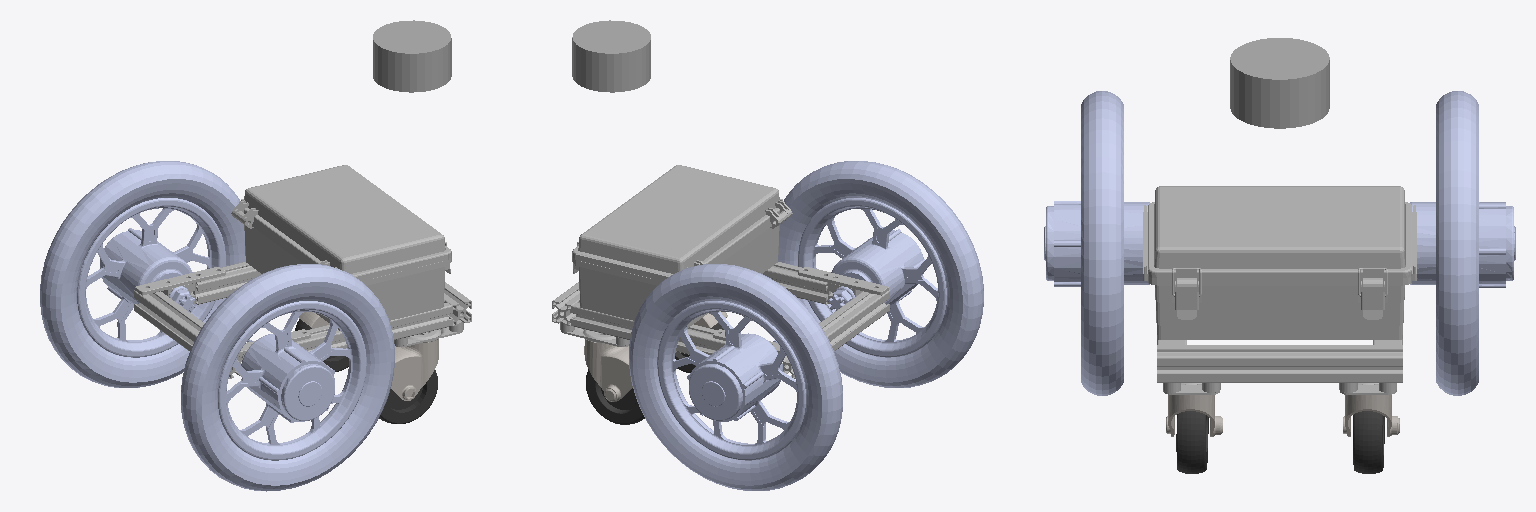
robot.urdf — atcart_greenhouse_gazebo:
<?xml version="1.0" encoding="utf-8"?>
<!-- This URDF was automatically created by SolidWorks to URDF Exporter! Originally created by [author] ([email redacted]) 
     Commit Version: 1.6.0-1-g15f4949  Build Version: 1.6.7594.29634
     For more information, please see http://wiki.ros.org/sw_urdf_exporter -->
<robot
  name="atcart_greenhouse_gazebo">
  <link
    name="base_link">
    <inertial>
      <origin
        xyz="-0.0072165 -9.8416E-11 0.049749"
        rpy="0 0 0" />
      <mass
        value="5.7003" />
      <inertia
        ixx="0.045977"
        ixy="-5.8538E-09"
        ixz="-0.00017433"
        iyy="0.02225"
        iyz="-1.2093E-10"
        izz="0.062715" />
    </inertial>
    <visual>
      <origin
        xyz="0 0 0"
        rpy="0 0 0" />
      <geometry>
        <mesh
          filename="package://atcart_greenhouse_gazebo/meshes/base_link.STL" />
      </geometry>
      <material
        name="">
        <color
          rgba="0.75294 0.75294 0.75294 1" />
      </material>
    </visual>
    <collision>
      <origin
        xyz="0 0 0"
        rpy="0 0 0" />
      <geometry>
        <mesh
          filename="package://atcart_greenhouse_gazebo/meshes/base_link.STL" />
      </geometry>
    </collision>
  </link>
  <link
    name="caster_holder_left">
    <inertial>
      <origin
        xyz="-0.02177 0.0014053 0.046067"
        rpy="0 0 0" />
      <mass
        value="0.32044" />
      <inertia
        ixx="0.00025526"
        ixy="3.2464E-06"
        ixz="-5.7646E-05"
        iyy="0.00031844"
        iyz="1.5351E-05"
        izz="0.00028574" />
    </inertial>
    <visual>
      <origin
        xyz="0 0 0"
        rpy="0 0 0" />
      <geometry>
        <mesh
          filename="package://atcart_greenhouse_gazebo/meshes/caster_holder_left.STL" />
      </geometry>
      <material
        name="">
        <color
          rgba="0.77647 0.75686 0.73725 1" />
      </material>
    </visual>
    <collision>
      <origin
        xyz="0 0 0"
        rpy="0 0 0" />
      <geometry>
        <mesh
          filename="package://atcart_greenhouse_gazebo/meshes/caster_holder_left.STL" />
      </geometry>
    </collision>
  </link>
  <joint
    name="caster_holder_left_joint"
    type="continuous">
    <origin
      xyz="0.061 0.09 -0.1283"
      rpy="0 0 -0.02603" />
    <parent
      link="base_link" />
    <child
      link="caster_holder_left" />
    <axis
      xyz="0 0 1" />
  </joint>
  <link
    name="caster_wheel_left">
    <inertial>
      <origin
        xyz="-5.55111512312578E-17 0 3.6943163319314E-06"
        rpy="0 0 0" />
      <mass
        value="0.192088631471314" />
      <inertia
        ixx="0.000151182469566071"
        ixy="-6.99354014046243E-34"
        ixz="5.57175414480924E-19"
        iyy="0.000151182469566071"
        iyz="-1.53010454143402E-19"
        izz="0.000279600031953075" />
    </inertial>
    <visual>
      <origin
        xyz="0 0 0"
        rpy="0 0 0" />
      <geometry>
        <mesh
          filename="package://atcart_greenhouse_gazebo/meshes/caster_wheel_left.STL" />
      </geometry>
      <material
        name="">
        <color
          rgba="0.298039215686275 0.298039215686275 0.298039215686275 1" />
      </material>
    </visual>
    <collision>
      <origin
        xyz="0 0 0"
        rpy="0 0 0" />
      <geometry>
        <mesh
          filename="package://atcart_greenhouse_gazebo/meshes/caster_wheel_left.STL" />
      </geometry>
    </collision>
  </link>
  <joint
    name="caster_wheel_left_joint"
    type="continuous">
    <origin
      xyz="-0.029 0 0.012"
      rpy="1.5708 0 0" />
    <parent
      link="caster_holder_left" />
    <child
      link="caster_wheel_left" />
    <axis
      xyz="0 0 -1" />
  </joint>
  <link
    name="caster_holder_right">
    <inertial>
      <origin
        xyz="-0.0217591852847827 0.00155718746772504 0.0460672350911227"
        rpy="0 0 0" />
      <mass
        value="0.320441099388755" />
      <inertia
        ixx="0.000255304046268681"
        ixy="3.68752178239491E-06"
        ixz="-5.75374331188915E-05"
        iyy="0.000318389436371272"
        iyz="1.57528610382236E-05"
        izz="0.000285734524653862" />
    </inertial>
    <visual>
      <origin
        xyz="0 0 0"
        rpy="0 0 0" />
      <geometry>
        <mesh
          filename="package://atcart_greenhouse_gazebo/meshes/caster_holder_right.STL" />
      </geometry>
      <material
        name="">
        <color
          rgba="0.776470588235294 0.756862745098039 0.737254901960784 1" />
      </material>
    </visual>
    <collision>
      <origin
        xyz="0 0 0"
        rpy="0 0 0" />
      <geometry>
        <mesh
          filename="package://atcart_greenhouse_gazebo/meshes/caster_holder_right.STL" />
      </geometry>
    </collision>
  </link>
  <joint
    name="caster_holder_right_joint"
    type="continuous">
    <origin
      xyz="0.061 -0.09 -0.1283"
      rpy="0 0 -0.02603" />
    <parent
      link="base_link" />
    <child
      link="caster_holder_right" />
    <axis
      xyz="0 0 1" />
  </joint>
  <link
    name="caster_wheel_right">
    <inertial>
      <origin
        xyz="5.55111512312578E-17 2.77555756156289E-17 3.69431633334694E-06"
        rpy="0 0 0" />
      <mass
        value="0.192088631471313" />
      <inertia
        ixx="0.000151182469566071"
        ixy="-5.54803946229349E-35"
        ixz="-1.74171149779166E-19"
        iyy="0.000151182469566071"
        iyz="-3.35336884180025E-21"
        izz="0.000279600031953075" />
    </inertial>
    <visual>
      <origin
        xyz="0 0 0"
        rpy="0 0 0" />
      <geometry>
        <mesh
          filename="package://atcart_greenhouse_gazebo/meshes/caster_wheel_right.STL" />
      </geometry>
      <material
        name="">
        <color
          rgba="0.298039215686275 0.298039215686275 0.298039215686275 1" />
      </material>
    </visual>
    <collision>
      <origin
        xyz="0 0 0"
        rpy="0 0 0" />
      <geometry>
        <mesh
          filename="package://atcart_greenhouse_gazebo/meshes/caster_wheel_right.STL" />
      </geometry>
    </collision>
  </link>
  <joint
    name="caster_wheel_right_joint"
    type="continuous">
    <origin
      xyz="-0.028999 0.00020234 0.012"
      rpy="1.5708 0 -0.0069773" />
    <parent
      link="caster_holder_right" />
    <child
      link="caster_wheel_right" />
    <axis
      xyz="0 0 -1" />
  </joint>
  <link
    name="rear_wheel_left">
    <inertial>
      <origin
        xyz="1.42238878086953E-06 3.65240566235769E-07 0.035018661539531"
        rpy="0 0 0" />
      <mass
        value="2.28211944233861" />
      <inertia
        ixx="0.0148991041334707"
        ixy="-1.49538564040222E-11"
        ixz="-2.45298120595338E-07"
        iyy="0.0148991148755385"
        iyz="-8.73898019013882E-09"
        izz="0.0280100112156707" />
    </inertial>
    <visual>
      <origin
        xyz="0 0 0"
        rpy="0 0 0" />
      <geometry>
        <mesh
          filename="package://atcart_greenhouse_gazebo/meshes/rear_wheel_left.STL" />
      </geometry>
      <material
        name="">
        <color
          rgba="0.792156862745098 0.819607843137255 0.933333333333333 1" />
      </material>
    </visual>
    <collision>
      <origin
        xyz="0 0 0"
        rpy="0 0 0" />
      <geometry>
        <mesh
          filename="package://atcart_greenhouse_gazebo/meshes/rear_wheel_left.STL" />
      </geometry>
    </collision>
  </link>
  <joint
    name="rear_wheel_left_joint"
    type="continuous">
    <origin
      xyz="-0.189 0.21606 -0.015"
      rpy="1.5708 0.071178 0" />
    <parent
      link="base_link" />
    <child
      link="rear_wheel_left" />
    <axis
      xyz="0 0 -1" />
  </joint>
  <link
    name="rear_wheel_right">
    <inertial>
      <origin
        xyz="1.4236E-06 -3.6567E-07 0.10553"
        rpy="0 0 0" />
      <mass
        value="2.2821" />
      <inertia
        ixx="0.014899"
        ixy="-1.2769E-11"
        ixz="2.4534E-07"
        iyy="0.014899"
        iyz="-8.7567E-09"
        izz="0.02801" />
    </inertial>
    <visual>
      <origin
        xyz="0 0 0"
        rpy="0 0 0" />
      <geometry>
        <mesh
          filename="package://atcart_greenhouse_gazebo/meshes/rear_wheel_right.STL" />
      </geometry>
      <material
        name="">
        <color
          rgba="0.79216 0.81961 0.93333 1" />
      </material>
    </visual>
    <collision>
      <origin
        xyz="0 0 0"
        rpy="0 0 0" />
      <geometry>
        <mesh
          filename="package://atcart_greenhouse_gazebo/meshes/rear_wheel_right.STL" />
      </geometry>
    </collision>
  </link>
  <joint
    name="rear_wheel_right_joint"
    type="continuous">
    <origin
      xyz="-0.189 -0.075512 -0.015"
      rpy="1.5708 -0.74326 0" />
    <parent
      link="base_link" />
    <child
      link="rear_wheel_right" />
    <axis
      xyz="0 0 -1" />
  </joint>

  <!-- Lidar link and joint -->
  <link name="lidar_link">
    <inertial>
      <origin xyz="0 0 0" rpy="0 0 0"/>
      <mass value="0.01"/>
      <inertia ixx="0.00001"  ixy="0"  ixz="0" iyy="0.00001" iyz="0" izz="0.00001" />
    </inertial>

    <collision>
      <origin xyz="0 0 0" rpy="0 0 0"/>
      <geometry>
         <cylinder radius="0.0508" length="0.055"/>
      </geometry>
    </collision>

    <visual>
      <origin xyz="0 0 0" rpy="0 0 0"/>
      <geometry>
         <cylinder radius="0.0508" length="0.055"/>
      </geometry>
    </visual>
  </link>
  <joint name="lidar_joint" type="fixed">
    <parent link="base_link"/>
    <child link="lidar_link"/>
    <origin xyz="0.1 0.0 0.3" rpy="0 0 0"/>
  </joint>

  <!-- IMU link and joint -->
  <link name="imu_link" />
  <joint name="imu_joint" type="fixed">
    <parent link="base_link" />
    <child link="imu_link" />
  </joint>

  <gazebo>
    <plugin name="differential_drive_controller" filename="libgazebo_ros_diff_drive.so">
      <alwaysOn>true</alwaysOn>
      <updateRate>40</updateRate>
      <legacyMode>false</legacyMode>
      <leftJoint>rear_wheel_left_joint</leftJoint>
      <rightJoint>rear_wheel_right_joint</rightJoint>
      <wheelSeparation>0.362</wheelSeparation>
      <wheelDiameter>0.310</wheelDiameter>
      <torque>30</torque>
      <commandTopic>cmd_vel</commandTopic>
      <odometryTopic>odom</odometryTopic>
      <odometryFrame>odom</odometryFrame>
      <robotBaseFrame>base_link</robotBaseFrame>
      <publishWheelTF>false</publishWheelTF>
      <publishWheelJointState>false</publishWheelJointState>
      <rosDebugLevel>na</rosDebugLevel>
      <wheelAcceleration>0</wheelAcceleration>
      <wheelTorque>30</wheelTorque>
      <odometrySource>world</odometrySource>
      <publishOdomTF>true</publishOdomTF>
      <publishTf>1</publishTf>
    </plugin>
  </gazebo>

  <gazebo reference="lidar_link">
    <sensor name="lidar" type="gpu_ray">
      <always_on>true</always_on>
      <visualize>false</visualize>
      <update_rate>5</update_rate>
      <ray>
        <scan>
          <horizontal>
            <samples>2019</samples>
            <resolution>1.000000</resolution>
            <min_angle>-3.14159274101</min_angle>
            <max_angle>3.14159274101</max_angle>
          </horizontal>
        </scan>
        <range>
          <min>0.100000</min>
          <max>30.0</max>
          <resolution>0.015000</resolution>
        </range>
        <noise>
          <type>gaussian</type>
          <mean>0.0</mean>
          <stddev>0.01</stddev>
        </noise>
      </ray>
      <!-- <plugin name="scan" filename="libgazebo_ros_ray_sensor.so"> -->
      <!-- this answer seems to make scan topic appear on ros https://answers.ros.org/question/273492/laserscanner-in-gazebo-does-not-publish-data-while-topic-is-set/ -->
      <!-- <plugin name="scan" filename="libgazebo_ros_laser.so"> -->
      <plugin name="scan" filename="libgazebo_ros_gpu_laser.so">
        <!-- <ros>
          <remapping>~/out:=scan</remapping>
        </ros>
        <output_type>sensor_msgs/LaserScan</output_type> -->
        <topicName>atcart_scan</topicName>
        <frame_name>lidar_link</frame_name>
      </plugin>
    </sensor>
  </gazebo>

  <gazebo reference="imu_link">
    <sensor name="imu_sensor" type="imu">
      <always_on>true</always_on>
      <update_rate>100</update_rate>
      <visualize>true</visualize>
      <topic>__default_topic__</topic>
      <plugin filename="libgazebo_ros_imu_sensor.so" name="imu_plugin">
        <topicName>imu</topicName>
        <bodyName>imu_link</bodyName>
        <updateRateHZ>100.0</updateRateHZ>
        <gaussianNoise>0.0</gaussianNoise>
        <xyzOffset>0 0 0</xyzOffset>
        <rpyOffset>0 0 0</rpyOffset>
        <frameName>imu_link</frameName>
        <initialOrientationAsReference>false</initialOrientationAsReference>
      </plugin>
      <pose>0 0 0 0 0 0</pose>
    </sensor>
  </gazebo>

</robot>

--- Facts derived from the render (not from the file) ---
3 views of the same robot in one strip: view 1: azimuth 30°, elevation 25°; view 2: azimuth 150°, elevation 25°; view 3: azimuth 270°, elevation 25° (orthographic).
Model atcart_greenhouse_gazebo with 9 links and 8 joints (6 continuous, 2 fixed), rooted at base_link, posed every joint at zero.
Visible links, largest first — view 1: rear_wheel_right, base_link, rear_wheel_left, lidar_link, caster_holder_right, caster_wheel_right; view 2: rear_wheel_left, base_link, rear_wheel_right, lidar_link, caster_holder_left, caster_wheel_left; view 3: base_link, rear_wheel_right, rear_wheel_left, lidar_link, caster_wheel_right, caster_wheel_left, caster_holder_right, caster_holder_left.
Boxes of the visible links, x1,y1,x2,y2 form: rear_wheel_right: (181,264,394,491); base_link: (134,165,471,378); rear_wheel_left: (40,161,245,387); lidar_link: (373,20,451,92); caster_holder_right: (391,339,438,400); caster_wheel_right: (379,370,437,423); rear_wheel_left: (629,264,842,490); base_link: (552,165,889,378); rear_wheel_right: (778,161,983,387); lidar_link: (572,20,650,92); caster_holder_left: (584,339,632,401); caster_wheel_left: (586,369,644,424); base_link: (1143,186,1416,394); rear_wheel_right: (1044,91,1149,395); rear_wheel_left: (1410,91,1515,395); lidar_link: (1230,38,1329,128); caster_wheel_right: (1176,411,1208,473); caster_wheel_left: (1353,411,1384,473); caster_holder_right: (1166,395,1222,436); caster_holder_left: (1343,395,1399,436).
Size in the robot's own frame: 0.4956 by 0.48 by 0.4983 metres.
7 mesh visuals loaded from 7 distinct referenced files (7 binary STL).